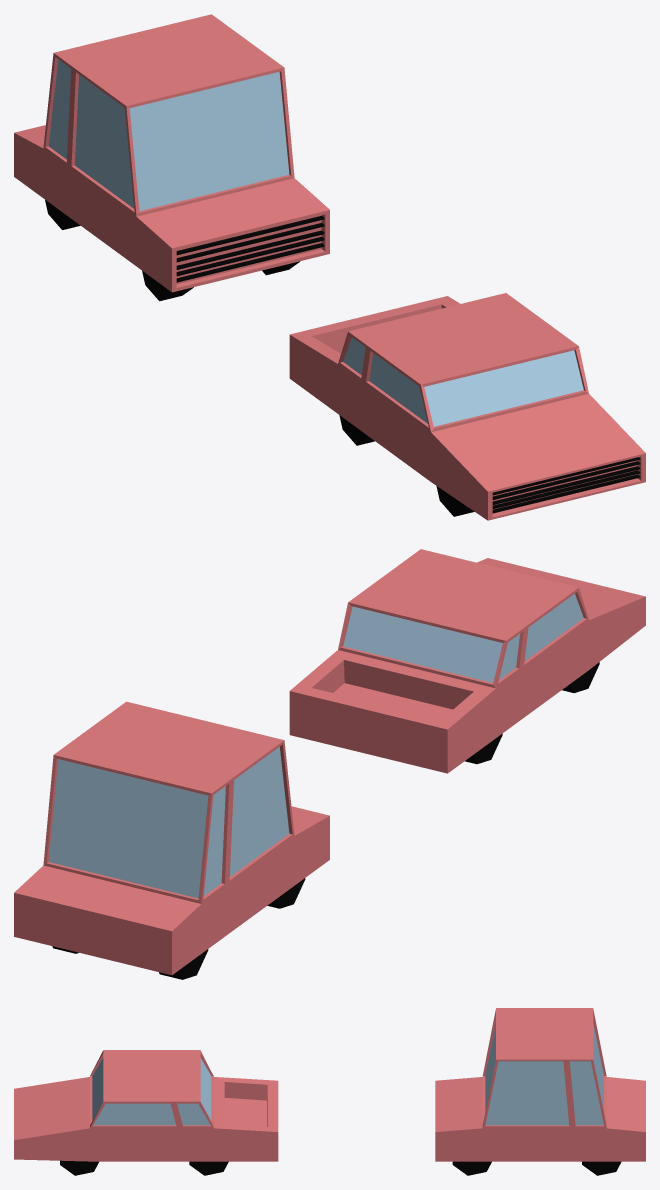
The model's file is Cars.fbx.
The picture shows the model from 3 angles, top to bottom: view 1: azimuth 30°, elevation 25°; view 2: azimuth 150°, elevation 25°; view 3: azimuth 270°, elevation 25°; orthographic projection. The views are drawn at different scales.
Parts seen in each view (by area): view 1: Cube, Cube.007; view 2: Cube, Cube.007; view 3: Cube, Cube.007.
Boxes of the visible parts, x1,y1,x2,y2 form: Cube: (14, 14, 329, 301); Cube.007: (289, 293, 645, 520); Cube: (14, 701, 329, 979); Cube.007: (289, 549, 645, 773); Cube: (435, 1008, 645, 1175); Cube.007: (14, 1050, 278, 1175).
Size of the model in its own units: 200 by 221 by 1038.
